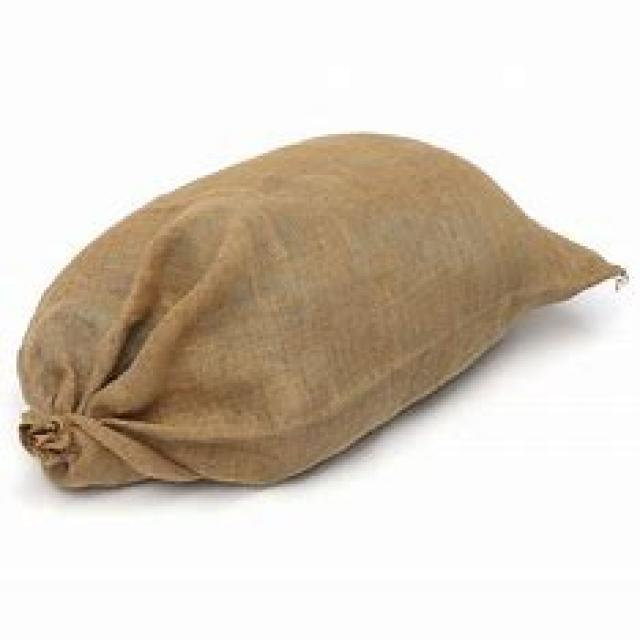gunny_bag: (11, 124, 624, 497)
